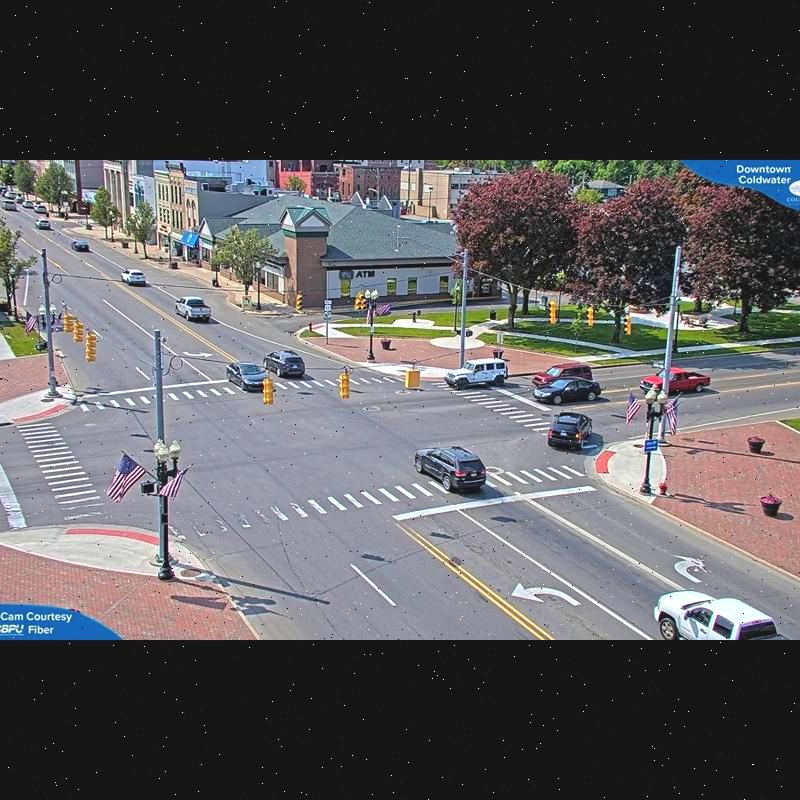car: (653, 585, 795, 640), (417, 443, 488, 493), (636, 368, 711, 397), (440, 358, 508, 388), (534, 378, 602, 404), (546, 412, 594, 447), (530, 364, 594, 390), (266, 351, 306, 380), (226, 364, 268, 390), (175, 297, 212, 322), (120, 270, 146, 287), (70, 239, 90, 253), (34, 217, 52, 230), (2, 199, 17, 212), (34, 204, 46, 214), (22, 198, 34, 208)
